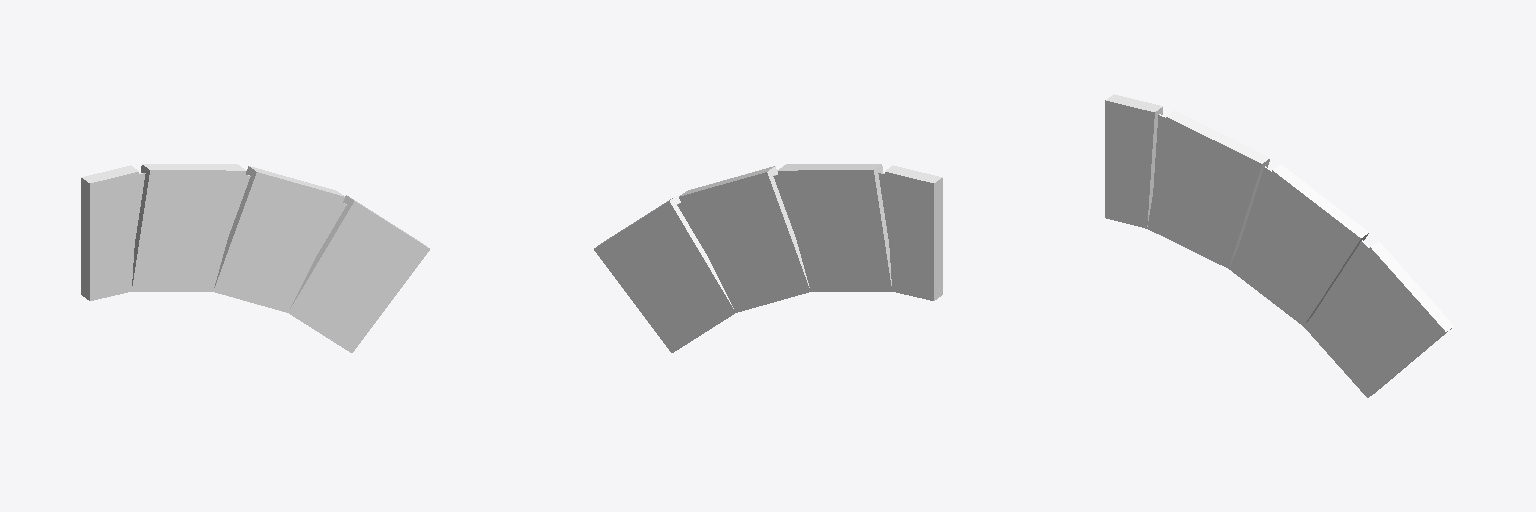
The model's file is generic_facade_segmental_arch_2_right_bottom.obj.
3 renders of one model, left to right at view 1: azimuth 30°, elevation 25°; view 2: azimuth 150°, elevation 25°; view 3: azimuth 330°, elevation 25°, orthographic.
Visible parts, largest first — view 1: arch_2_left, arch_2_left_inner; view 2: arch_2_left, arch_2_left_inner; view 3: arch_2_left, arch_2_left_inner.
Part boxes in pixels (x1,y1,x2,y2): arch_2_left: (81, 164, 429, 352); arch_2_left_inner: (135, 173, 346, 255); arch_2_left: (594, 164, 942, 352); arch_2_left_inner: (677, 173, 888, 255); arch_2_left: (1105, 94, 1453, 397); arch_2_left_inner: (1153, 114, 1369, 314).
Bounding box in the file's own units: 1.31 × 0.8607 × 0.0562.